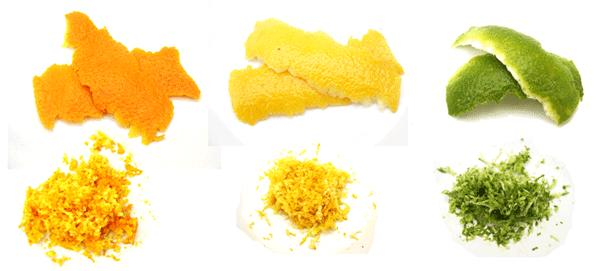organic: (33, 12, 199, 143), (229, 19, 402, 124), (20, 131, 141, 263), (238, 149, 376, 252), (437, 147, 570, 253), (446, 26, 582, 123)
